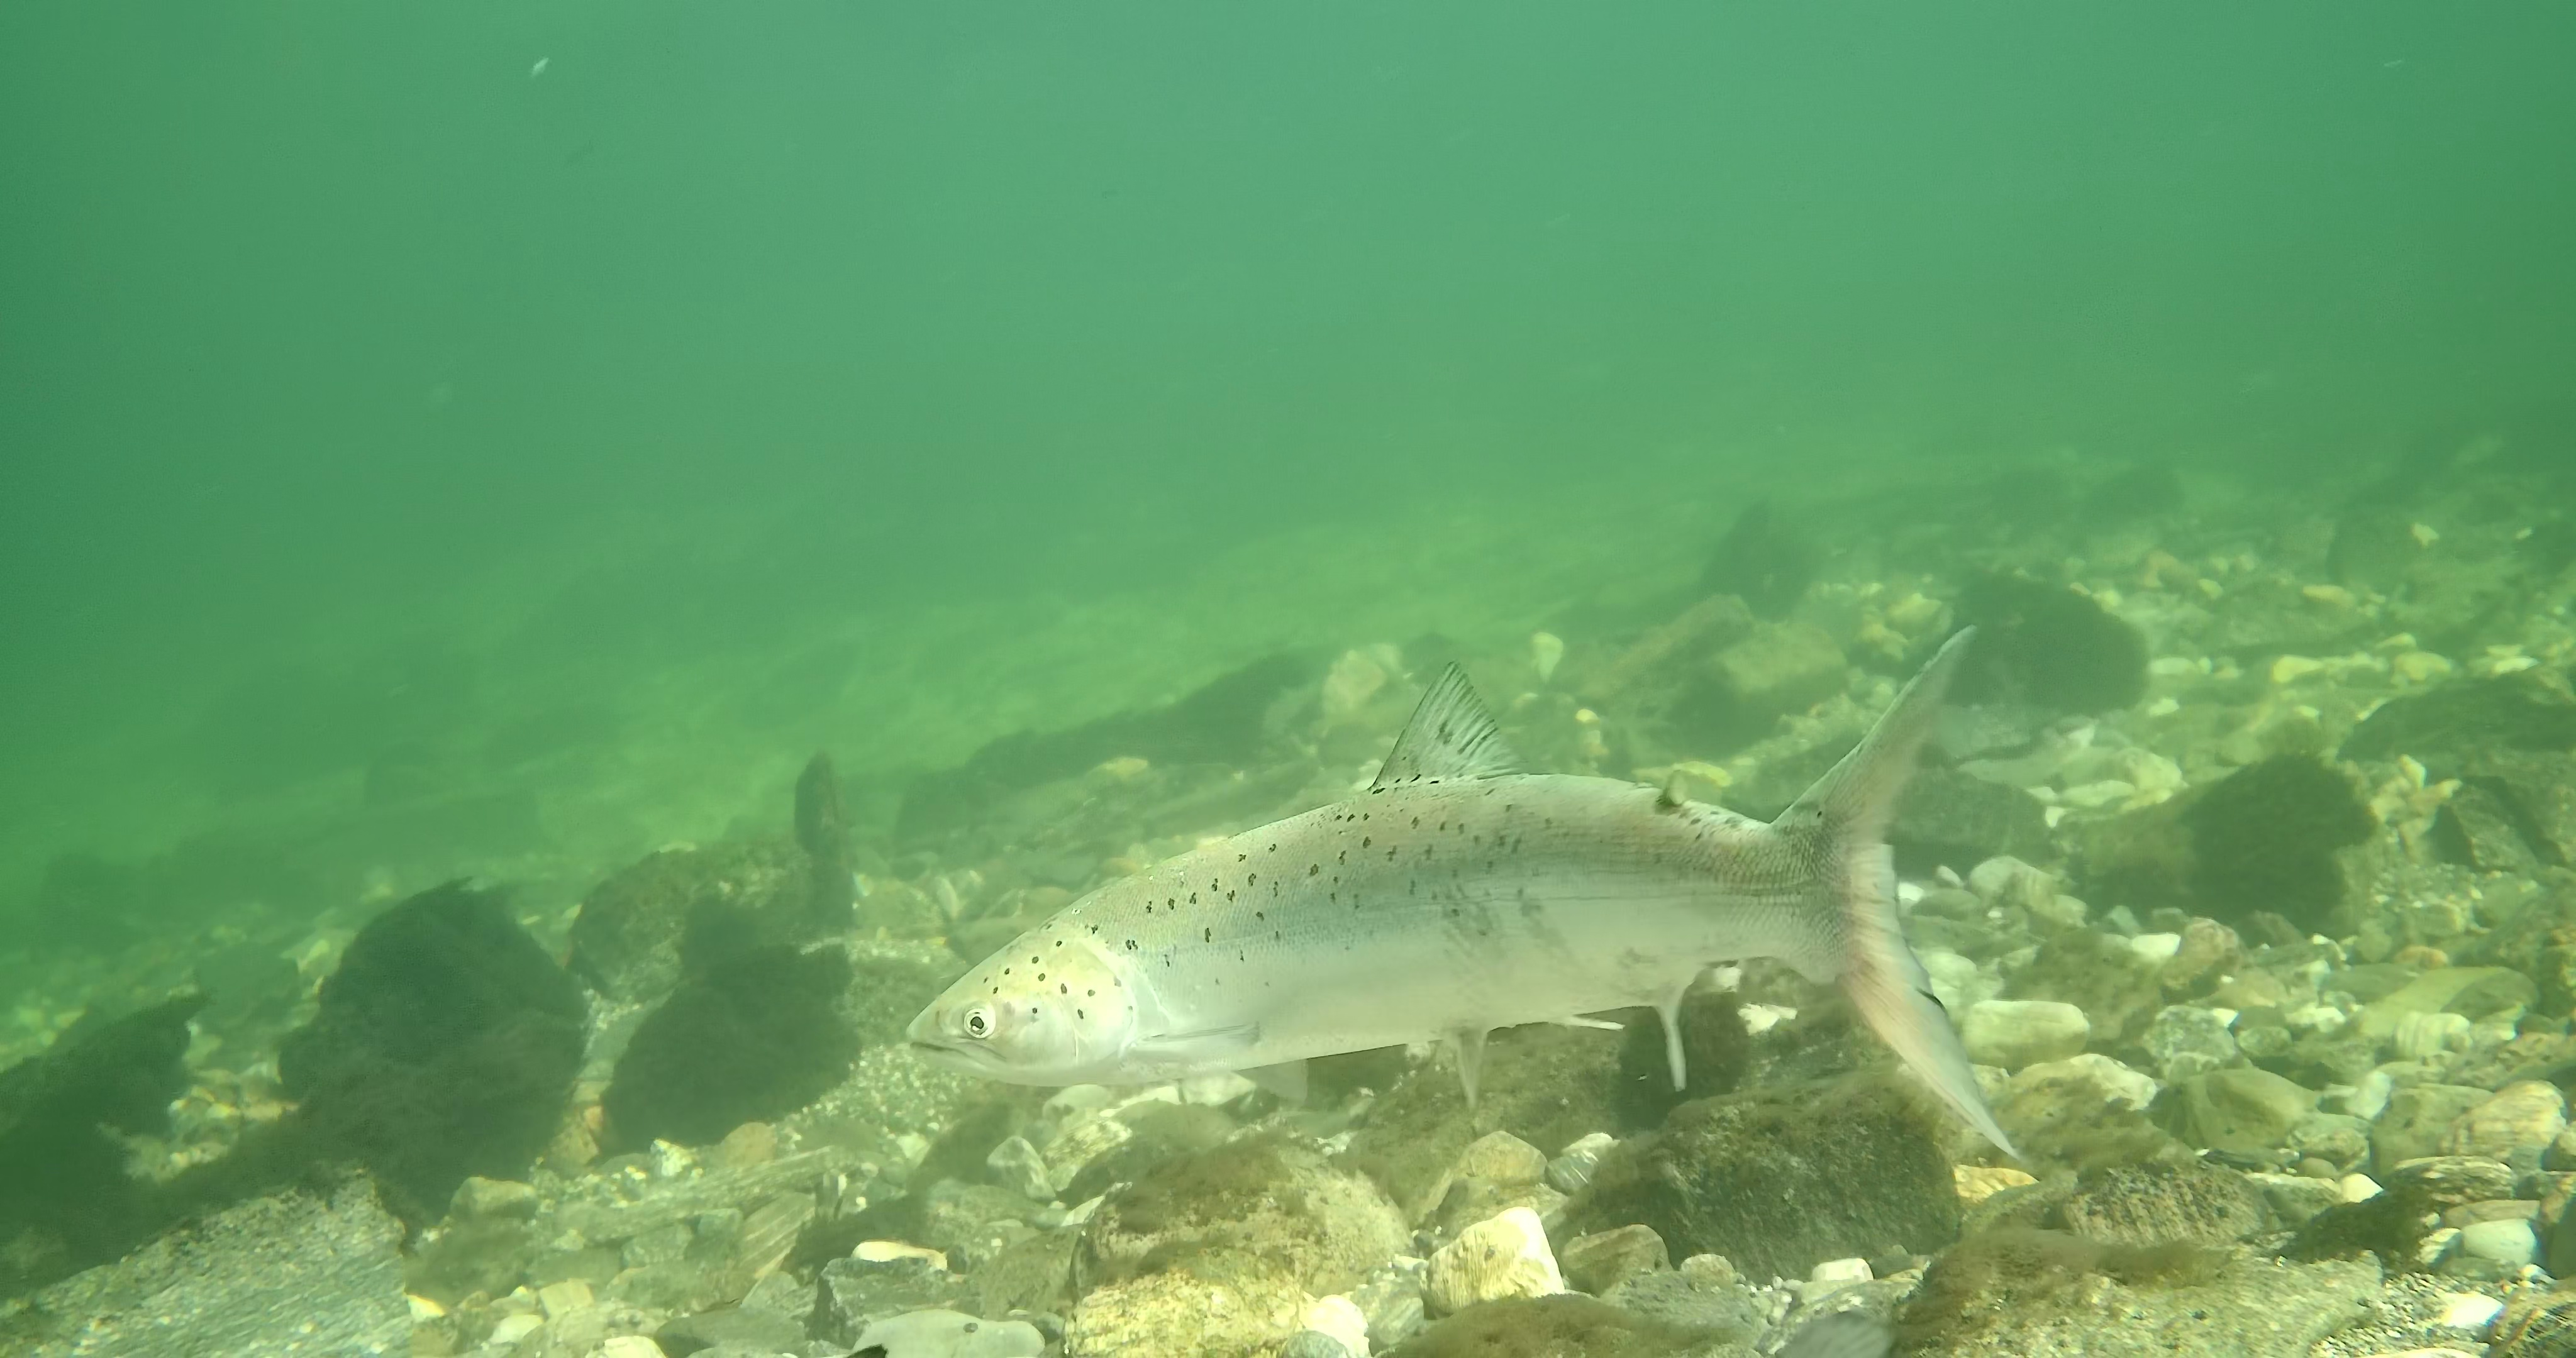salmon: (898, 624, 2027, 1164)
